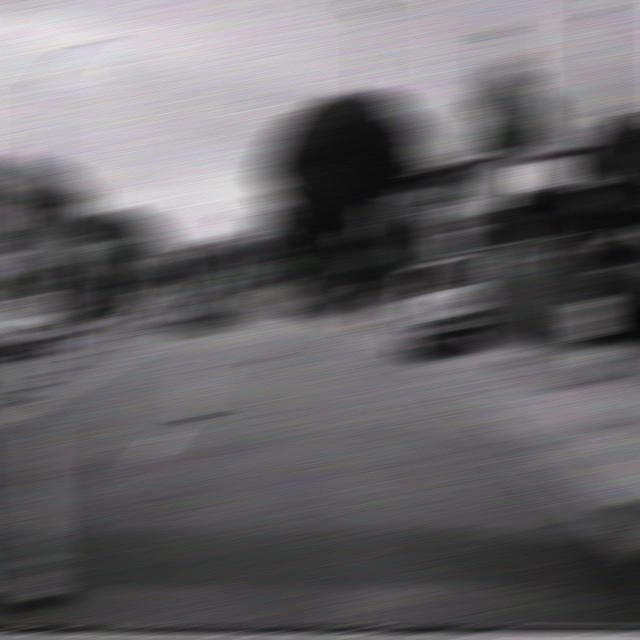pedestrianCrossing: (337, 223, 366, 244)
